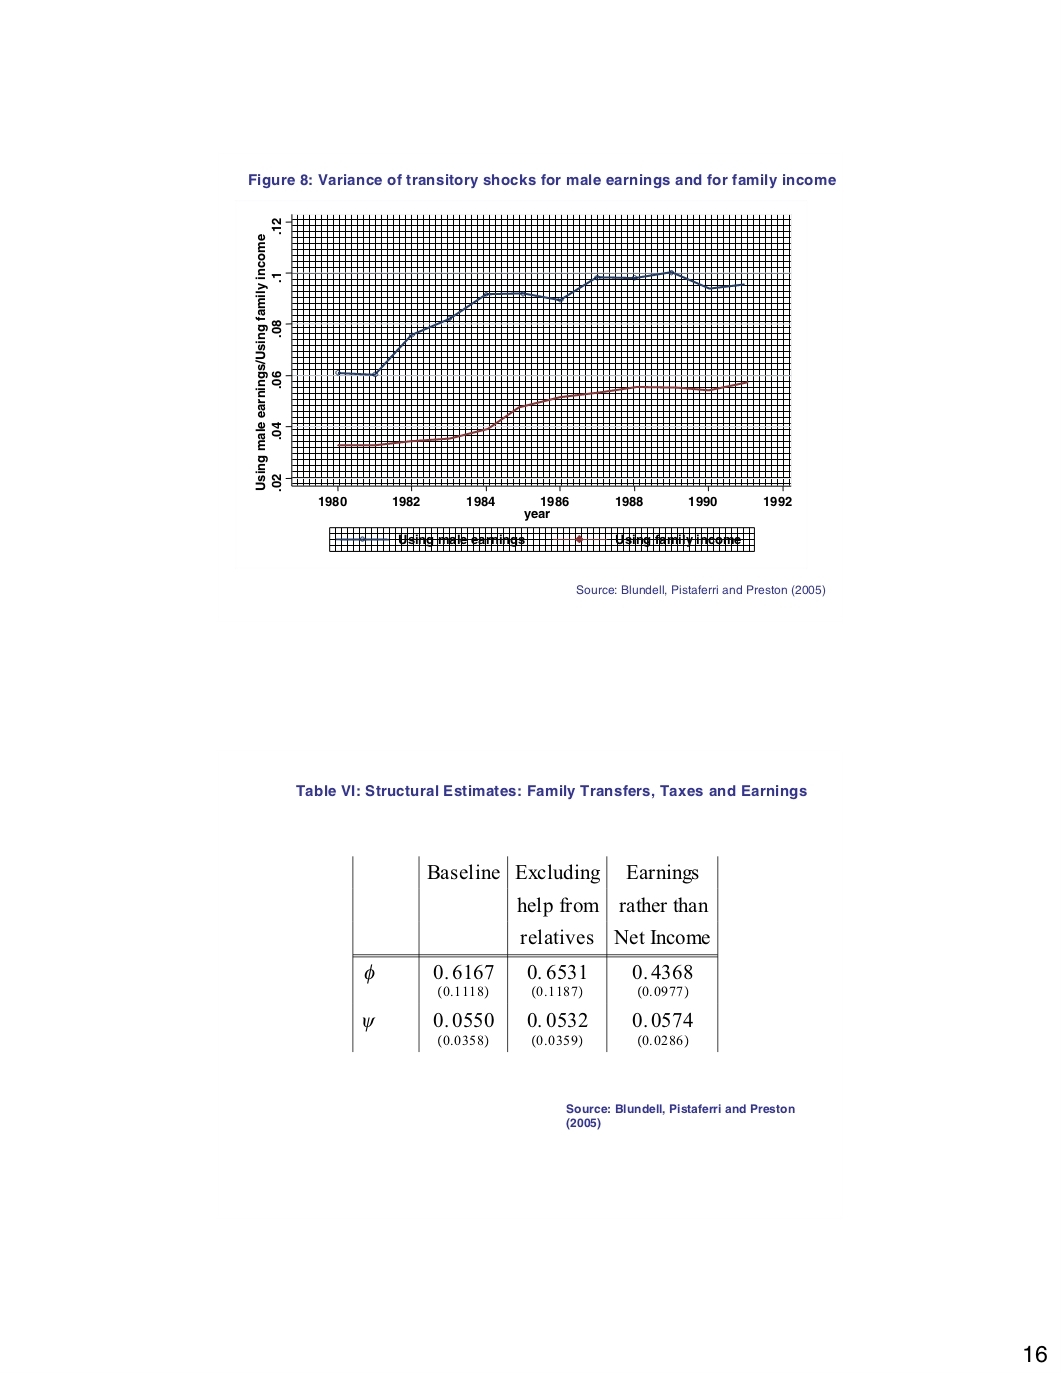Table: (352, 855, 718, 1052)
figure: (255, 214, 791, 520), (329, 525, 755, 552)
